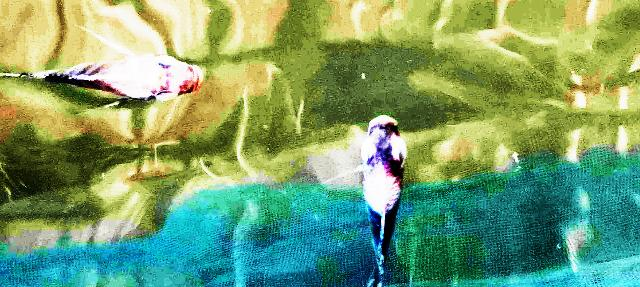Columnaris Disease: (0, 55, 203, 100), (361, 115, 406, 287)
